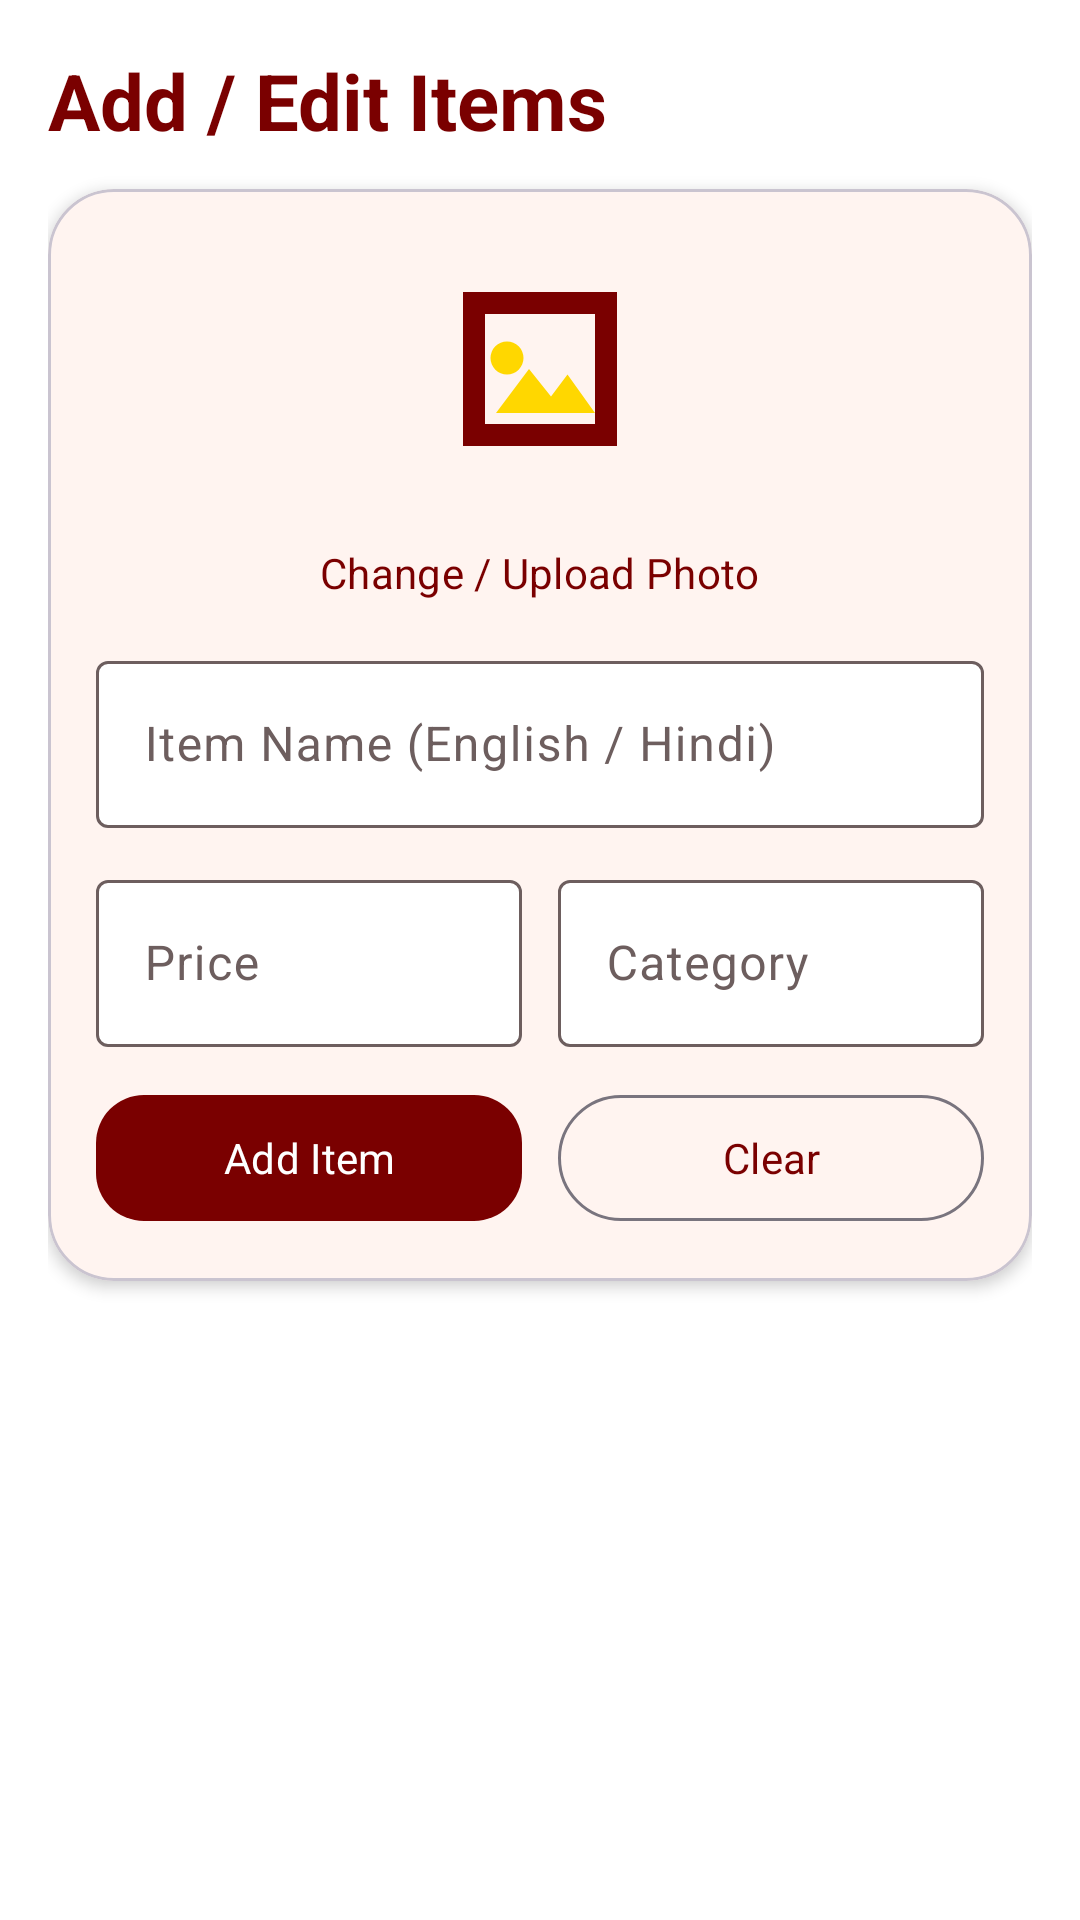

Screen size 1080×1920. Icon name, then its center in pixels as (x=x, y=y):
Selected item image: (x=540, y=369)
